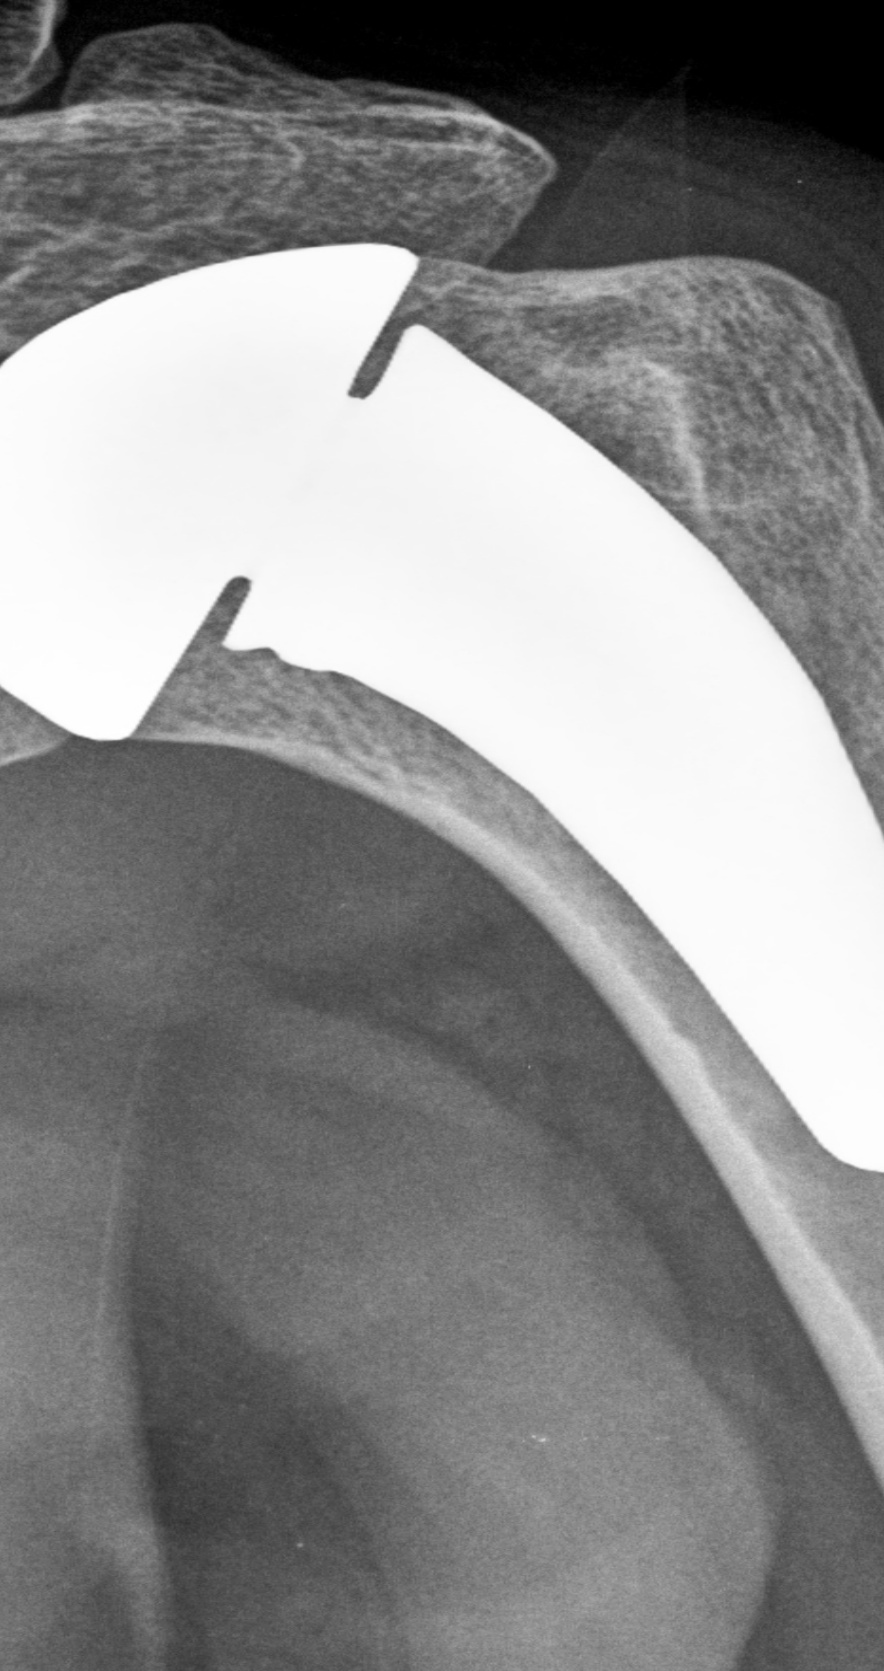Shoulder - AequalisAscendFlex - Tornier: (2, 224, 431, 760)
